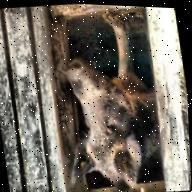boar: (45, 7, 169, 192)
